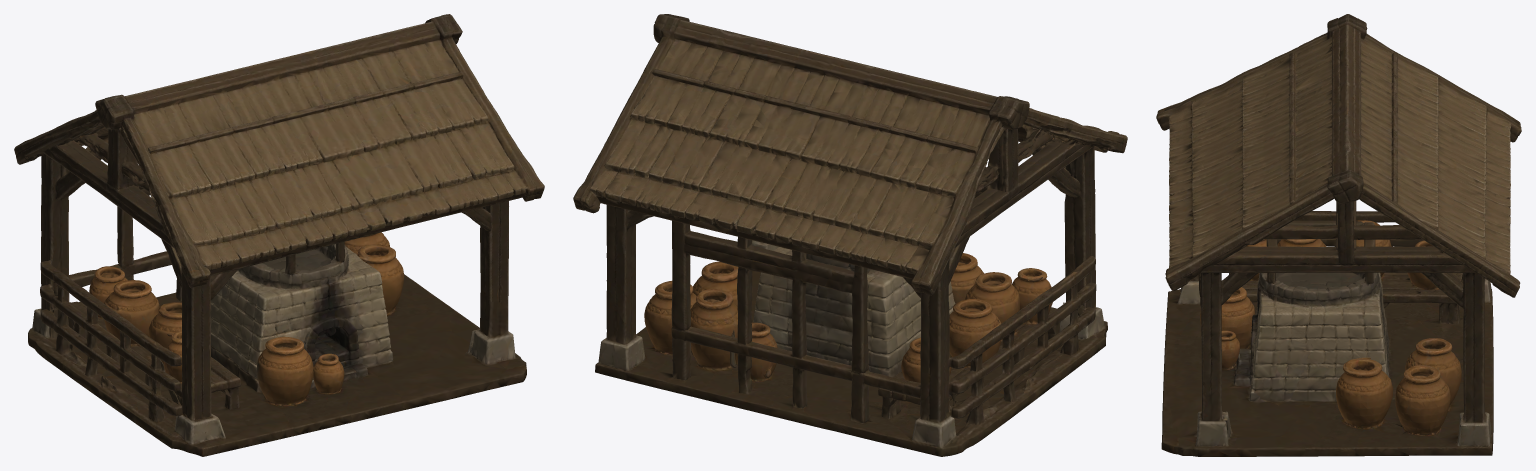
Rendered from bq_pottery.hd.glb.
The picture shows the model from 3 angles, left to right: view 1: azimuth 30°, elevation 25°; view 2: azimuth 150°, elevation 25°; view 3: azimuth 270°, elevation 25°; orthographic projection. The views are drawn at different scales.
Visible parts, largest first — view 1: mesh_node; view 2: mesh_node; view 3: mesh_node.
Part boxes in pixels (x1,y1,x2,y2): mesh_node: [14, 14, 544, 456]; mesh_node: [573, 14, 1127, 456]; mesh_node: [1156, 14, 1521, 456].
Size of the model in its own units: 1.9 by 1.47 by 1.71.
1 material, 1 textured.
